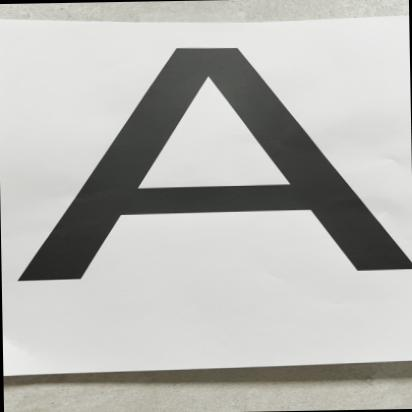seat: (10, 29, 412, 327)
